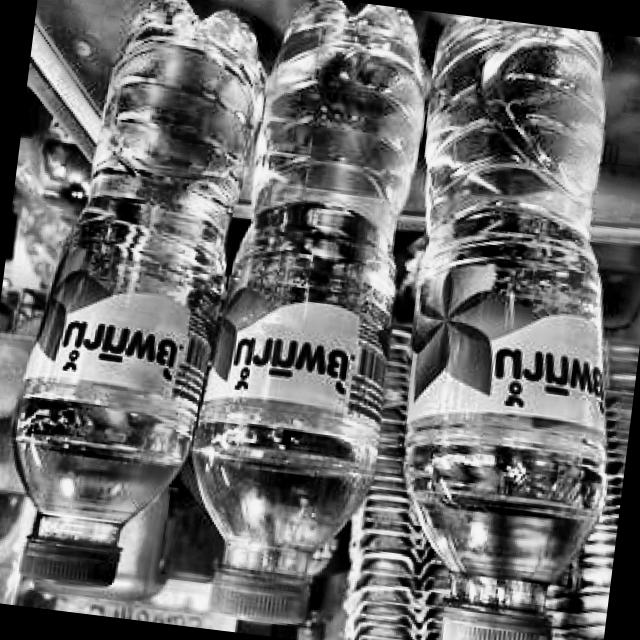waterbottle: (161, 0, 449, 640), (351, 11, 640, 640), (0, 0, 287, 618)
